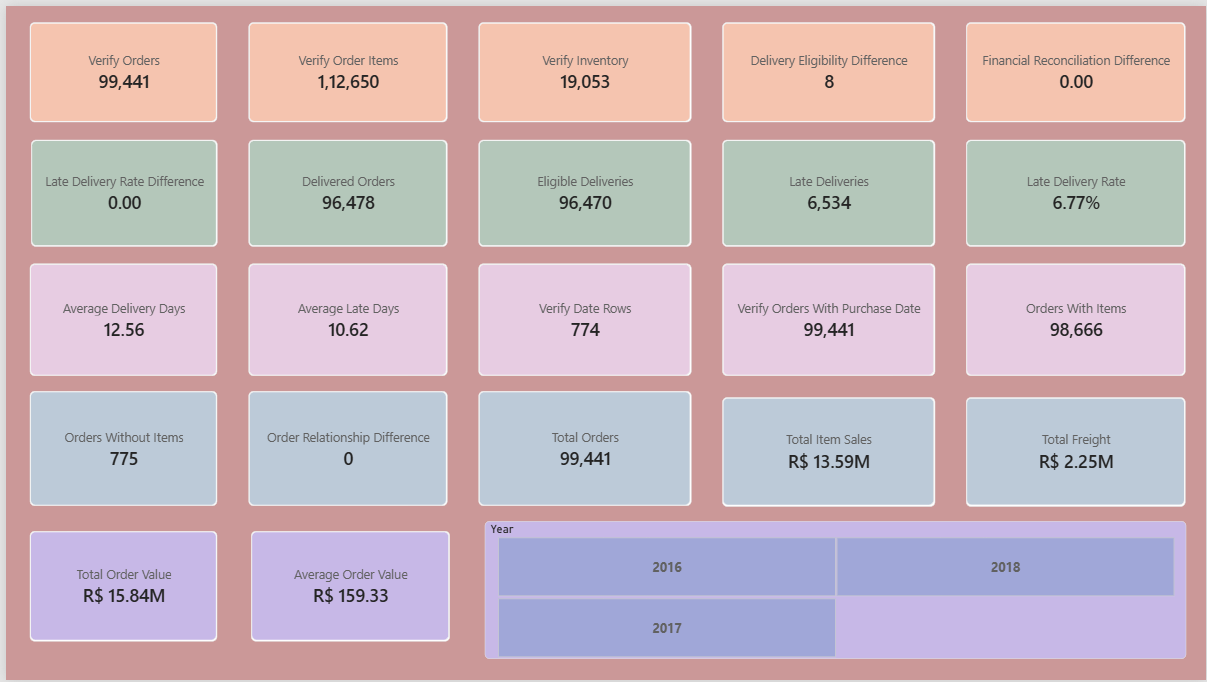

What the dashboard file says about the page in this screenshot:
{"tool":"powerbi","page":{"name":"00 \\| QA Validation","canvas":[1920,1080],"ordinal":0},"visuals":[{"type":"cardVisual","fields":{"Data":["mart fact_inventory.Verify Orders"]},"box":[38.7,25.8,300,160.1],"z":0},{"type":"cardVisual","fields":{"Data":["mart fact_inventory.Orders With Items"]},"box":[1536.8,412.3,351.5,180.4],"z":1000},{"type":"cardVisual","fields":{"Data":["Dim_Date.Verify Date Rows"]},"box":[756.4,412.3,340.5,180.4],"z":2000},{"type":"cardVisual","fields":{"Data":["Dim_Date.Total Orders"]},"box":[756.4,616.6,340.5,184.1],"z":3000},{"type":"cardVisual","fields":{"Data":["Dim_Date.Delivered Orders"]},"box":[388.3,213.5,318.4,171.2],"z":4000},{"type":"cardVisual","fields":{"Data":["Dim_Date.Delivery Eligibility Difference"]},"box":[1146.6,25.8,340.5,160.1],"z":5000},{"type":"slicer","fields":{"Values":["Dim_Date.Year"]},"box":[765.6,824.5,1122.7,220.9],"z":6000},{"type":"cardVisual","fields":{"Data":["mart fact_inventory.Verify Order Items"]},"box":[388.3,25.8,318.4,160.1],"z":6001},{"type":"cardVisual","fields":{"Data":["mart fact_inventory.Verify Inventory"]},"box":[756.4,25.8,340.5,160.1],"z":6002},{"type":"cardVisual","fields":{"Data":["Dim_Date.Financial Reconciliation Difference"]},"box":[1536.8,25.8,351.5,160.1],"z":6003},{"type":"cardVisual","fields":{"Data":["Dim_Date.Late Delivery Rate Difference"]},"box":[40.5,213.5,298.2,171.2],"z":6004},{"type":"cardVisual","fields":{"Data":["Dim_Date.Eligible Deliveries"]},"box":[756.4,213.5,340.5,171.2],"z":6005},{"type":"cardVisual","fields":{"Data":["Dim_Date.Late Deliveries"]},"box":[1146.6,213.5,340.5,171.2],"z":6006},{"type":"cardVisual","fields":{"Data":["Dim_Date.Late Delivery Rate"]},"box":[1536.8,213.5,351.5,171.2],"z":6007},{"type":"cardVisual","fields":{"Data":["Dim_Date.Average Delivery Days"]},"box":[38.7,412.3,300,180.4],"z":6008},{"type":"cardVisual","fields":{"Data":["Dim_Date.Average Late Days"]},"box":[388.3,412.3,318.4,180.4],"z":6009},{"type":"cardVisual","fields":{"Data":["Dim_Date.Verify Orders With Purchase Date"]},"box":[1146.6,412.3,340.5,180.4],"z":6010},{"type":"cardVisual","fields":{"Data":["mart fact_order_items.Orders Without Items"]},"box":[38.7,616.6,300,184.1],"z":6011},{"type":"cardVisual","fields":{"Data":["mart fact_inventory.Order Relationship Difference"]},"box":[388.3,616.6,318.4,184.1],"z":6012},{"type":"cardVisual","fields":{"Data":["Dim_Date.Total Item Sales"]},"box":[1146.6,625.8,340.5,174.8],"z":6013},{"type":"cardVisual","fields":{"Data":["Dim_Date.Total Freight"]},"box":[1536.8,625.8,351.5,174.8],"z":6014},{"type":"cardVisual","fields":{"Data":["Dim_Date.Total Order Value"]},"box":[38.7,839.3,300,176.7],"z":6015},{"type":"cardVisual","fields":{"Data":["Dim_Date.Average Order Value"]},"box":[392.9,839.3,318.4,176.7],"z":6016}]}

Visuals, with their boxes in screenshot pixels (x1, y1, x2, y2), scaled from the page's 1920x1080 canvas onto the 1207x682 screenshot:
cardVisual - mart fact_inventory.Verify Orders: 24, 16, 213, 117
cardVisual - mart fact_inventory.Orders With Items: 966, 260, 1187, 374
cardVisual - Dim_Date.Verify Date Rows: 476, 260, 690, 374
cardVisual - Dim_Date.Total Orders: 476, 389, 690, 506
cardVisual - Dim_Date.Delivered Orders: 244, 135, 444, 243
cardVisual - Dim_Date.Delivery Eligibility Difference: 721, 16, 935, 117
slicer - Dim_Date.Year: 481, 521, 1187, 660
cardVisual - mart fact_inventory.Verify Order Items: 244, 16, 444, 117
cardVisual - mart fact_inventory.Verify Inventory: 476, 16, 690, 117
cardVisual - Dim_Date.Financial Reconciliation Difference: 966, 16, 1187, 117
cardVisual - Dim_Date.Late Delivery Rate Difference: 25, 135, 213, 243
cardVisual - Dim_Date.Eligible Deliveries: 476, 135, 690, 243
cardVisual - Dim_Date.Late Deliveries: 721, 135, 935, 243
cardVisual - Dim_Date.Late Delivery Rate: 966, 135, 1187, 243
cardVisual - Dim_Date.Average Delivery Days: 24, 260, 213, 374
cardVisual - Dim_Date.Average Late Days: 244, 260, 444, 374
cardVisual - Dim_Date.Verify Orders With Purchase Date: 721, 260, 935, 374
cardVisual - mart fact_order_items.Orders Without Items: 24, 389, 213, 506
cardVisual - mart fact_inventory.Order Relationship Difference: 244, 389, 444, 506
cardVisual - Dim_Date.Total Item Sales: 721, 395, 935, 506
cardVisual - Dim_Date.Total Freight: 966, 395, 1187, 506
cardVisual - Dim_Date.Total Order Value: 24, 530, 213, 642
cardVisual - Dim_Date.Average Order Value: 247, 530, 447, 642
